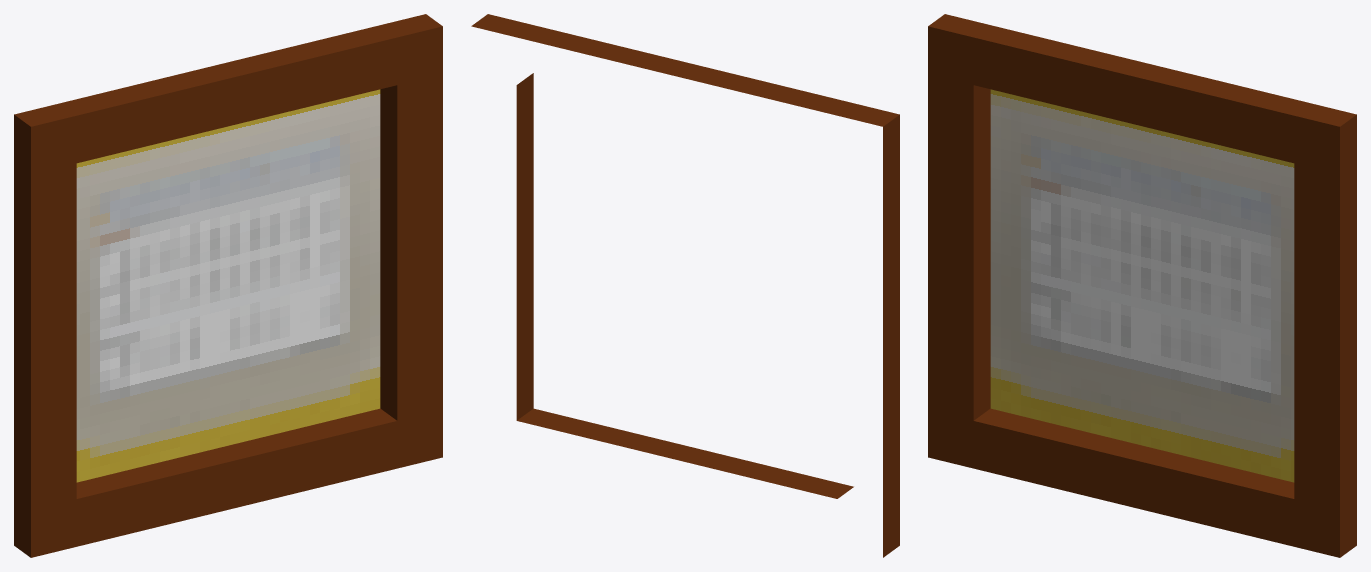
The model's file is Room13CRTPainting.glb.
3 views of the same model, side by side, from view 1: azimuth 30°, elevation 25°; view 2: azimuth 150°, elevation 25°; view 3: azimuth 330°, elevation 25° (orthographic).
Visible parts, largest first — view 1: Canvas, Frame.003; view 2: Frame.003; view 3: Canvas, Frame.003.
Boxes of the visible parts, <box> form: Canvas: <box>76,89,380,482</box>; Frame.003: <box>14,14,442,557</box>; Frame.003: <box>471,14,899,557</box>; Canvas: <box>990,89,1294,482</box>; Frame.003: <box>928,14,1356,557</box>.
Bounding box in the file's own units: 1.28 × 1.28 × 0.0912.
2 materials, 1 textured.
